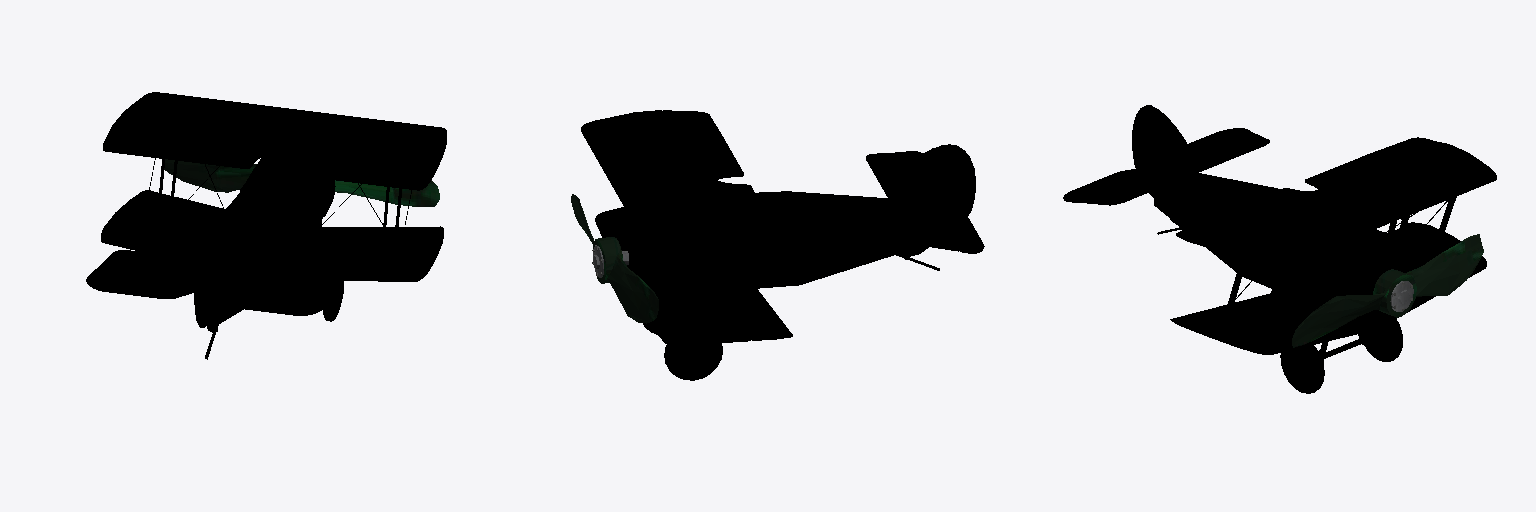
3 renders of one model, left to right at view 1: azimuth 30°, elevation 25°; view 2: azimuth 150°, elevation 25°; view 3: azimuth 270°, elevation 25°, orthographic.
Visible parts, largest first — view 1: Avioneta_pivot:Spowith_f1_camel Avioneta_pivot:polySurface40 Avi, Avioneta_pivot:Spowith_f1_camel Avioneta_pivot:cauda Avioneta_pi, helice_avioneta:Spowith_f1_camel helice_avioneta:helix helice_av, Avioneta_pivot:D1 Avioneta_pivot:Spowith_f1_camel Avioneta_pivot, Avioneta_pivot:E1 Avioneta_pivot:Spowith_f1_camel Avioneta_pivot, Avioneta_pivot:E2 Avioneta_pivot:Spowith_f1_camel Avioneta_pivot, Avioneta_pivot:D2 Avioneta_pivot:Spowith_f1_camel Avioneta_pivot, Avioneta_pivot:Spowith_f1_camel Avioneta_pivot:leme Avioneta_piv, Avioneta_pivot:Roda Avioneta_pivot:Spowith_f1_camel Avioneta_piv; view 2: Avioneta_pivot:Spowith_f1_camel Avioneta_pivot:polySurface40 Avi, helice_avioneta:Spowith_f1_camel helice_avioneta:helix helice_av, Avioneta_pivot:Spowith_f1_camel Avioneta_pivot:leme Avioneta_piv, Avioneta_pivot:Roda_ Avioneta_pivot:Spowith_f1_camel Avioneta_pi, Avioneta_pivot:E1 Avioneta_pivot:Spowith_f1_camel Avioneta_pivot, Avioneta_pivot:Spowith_f1_camel Avioneta_pivot:cauda Avioneta_pi, Avioneta_pivot:D1 Avioneta_pivot:Spowith_f1_camel Avioneta_pivot, Avioneta_pivot:E2 Avioneta_pivot:Spowith_f1_camel Avioneta_pivot; view 3: Avioneta_pivot:Spowith_f1_camel Avioneta_pivot:polySurface40 Avi, helice_avioneta:Spowith_f1_camel helice_avioneta:helix helice_av, Avioneta_pivot:Spowith_f1_camel Avioneta_pivot:leme Avioneta_piv, Avioneta_pivot:Spowith_f1_camel Avioneta_pivot:cauda Avioneta_pi, Avioneta_pivot:Roda Avioneta_pivot:Spowith_f1_camel Avioneta_piv, Avioneta_pivot:D1 Avioneta_pivot:Spowith_f1_camel Avioneta_pivot, Avioneta_pivot:E1 Avioneta_pivot:Spowith_f1_camel Avioneta_pivot, Avioneta_pivot:Roda_ Avioneta_pivot:Spowith_f1_camel Avioneta_pi, Avioneta_pivot:D2 Avioneta_pivot:Spowith_f1_camel Avioneta_pivot, Avioneta_pivot:E2 Avioneta_pivot:Spowith_f1_camel Avioneta_pivot.
Part boxes in pixels (bbox=[...]): Avioneta_pivot:Spowith_f1_camel Avioneta_pivot:polySurface40 Avi: bbox=[93, 92, 446, 359]; Avioneta_pivot:Spowith_f1_camel Avioneta_pivot:cauda Avioneta_pi: bbox=[86, 272, 323, 315]; helice_avioneta:Spowith_f1_camel helice_avioneta:helix helice_av: bbox=[164, 159, 439, 206]; Avioneta_pivot:D1 Avioneta_pivot:Spowith_f1_camel Avioneta_pivot: bbox=[357, 157, 436, 190]; Avioneta_pivot:E1 Avioneta_pivot:Spowith_f1_camel Avioneta_pivot: bbox=[103, 125, 176, 158]; Avioneta_pivot:E2 Avioneta_pivot:Spowith_f1_camel Avioneta_pivot: bbox=[101, 219, 173, 253]; Avioneta_pivot:D2 Avioneta_pivot:Spowith_f1_camel Avioneta_pivot: bbox=[358, 258, 433, 281]; Avioneta_pivot:Spowith_f1_camel Avioneta_pivot:leme Avioneta_piv: bbox=[194, 235, 208, 327]; Avioneta_pivot:Roda Avioneta_pivot:Spowith_f1_camel Avioneta_piv: bbox=[323, 281, 343, 321]; Avioneta_pivot:Spowith_f1_camel Avioneta_pivot:polySurface40 Avi: bbox=[581, 110, 958, 358]; helice_avioneta:Spowith_f1_camel helice_avioneta:helix helice_av: bbox=[571, 194, 658, 323]; Avioneta_pivot:Spowith_f1_camel Avioneta_pivot:leme Avioneta_piv: bbox=[934, 144, 975, 216]; Avioneta_pivot:Roda_ Avioneta_pivot:Spowith_f1_camel Avioneta_pi: bbox=[664, 343, 722, 380]; Avioneta_pivot:E1 Avioneta_pivot:Spowith_f1_camel Avioneta_pivot: bbox=[727, 221, 785, 252]; Avioneta_pivot:Spowith_f1_camel Avioneta_pivot:cauda Avioneta_pi: bbox=[903, 151, 984, 253]; Avioneta_pivot:D1 Avioneta_pivot:Spowith_f1_camel Avioneta_pivot: bbox=[663, 110, 723, 138]; Avioneta_pivot:E2 Avioneta_pivot:Spowith_f1_camel Avioneta_pivot: bbox=[738, 316, 792, 340]; Avioneta_pivot:Spowith_f1_camel Avioneta_pivot:polySurface40 Avi: bbox=[1078, 113, 1496, 369]; helice_avioneta:Spowith_f1_camel helice_avioneta:helix helice_av: bbox=[1292, 234, 1483, 347]; Avioneta_pivot:Spowith_f1_camel Avioneta_pivot:leme Avioneta_piv: bbox=[1132, 105, 1161, 196]; Avioneta_pivot:Spowith_f1_camel Avioneta_pivot:cauda Avioneta_pi: bbox=[1063, 128, 1250, 202]; Avioneta_pivot:Roda Avioneta_pivot:Spowith_f1_camel Avioneta_piv: bbox=[1280, 345, 1324, 393]; Avioneta_pivot:D1 Avioneta_pivot:Spowith_f1_camel Avioneta_pivot: bbox=[1176, 213, 1253, 246]; Avioneta_pivot:E1 Avioneta_pivot:Spowith_f1_camel Avioneta_pivot: bbox=[1370, 137, 1448, 163]; Avioneta_pivot:Roda_ Avioneta_pivot:Spowith_f1_camel Avioneta_pi: bbox=[1364, 319, 1402, 361]; Avioneta_pivot:D2 Avioneta_pivot:Spowith_f1_camel Avioneta_pivot: bbox=[1170, 308, 1242, 332]; Avioneta_pivot:E2 Avioneta_pivot:Spowith_f1_camel Avioneta_pivot: bbox=[1392, 222, 1438, 251].
Size of the model in its own units: 422 by 197 by 417.
2 materials, 1 textured.